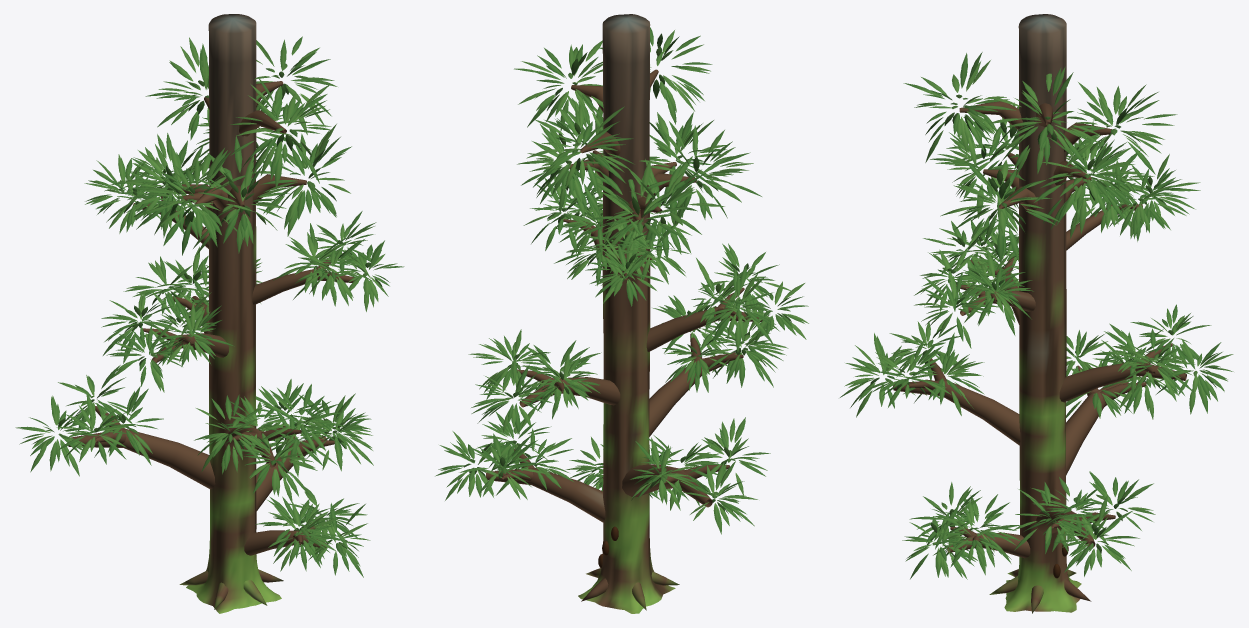
The model's file is Park_Kunugi_Col.fbx.
3 renders of one model, left to right at view 1: azimuth 30°, elevation 25°; view 2: azimuth 150°, elevation 25°; view 3: azimuth 270°, elevation 25°, orthographic.
Visible parts, largest first — view 1: Park_Kunugi_Col; view 2: Park_Kunugi_Col; view 3: Park_Kunugi_Col.
Boxes of the visible parts, x1,y1,x2,y2 form: Park_Kunugi_Col: [15, 14, 404, 613]; Park_Kunugi_Col: [435, 14, 808, 613]; Park_Kunugi_Col: [840, 14, 1233, 613].
Bounding box in the file's own units: 67.02 × 112 × 70.05.
